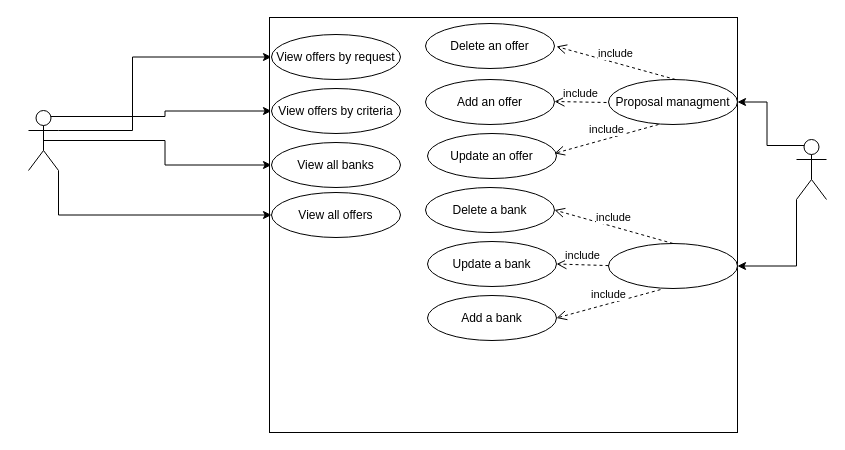
Image size: 845x450. Some labels were removed from this diagram. Here are the shapes that lost their labels. From the top down, the box of each, then its label:
(28, 110, 58, 170): Customer
(796, 138, 826, 200): Admin
(608, 242, 738, 288): Bank managment
